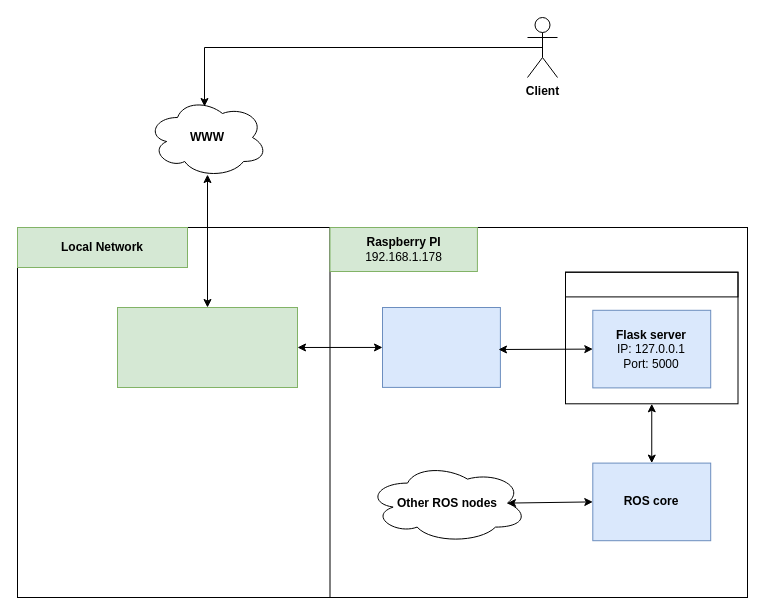
This 765x615 diagram has some shape labels left out. Here are the shapes that lost their labels. From the top down, the box of each, then its label:
(564, 271, 738, 297): image_stream_server_node
(116, 306, 298, 388): Router Fix V4 IP : 82.XX.XX.XX Local: 192.168.1.X
(382, 306, 500, 387): Nginx server Port: 443
